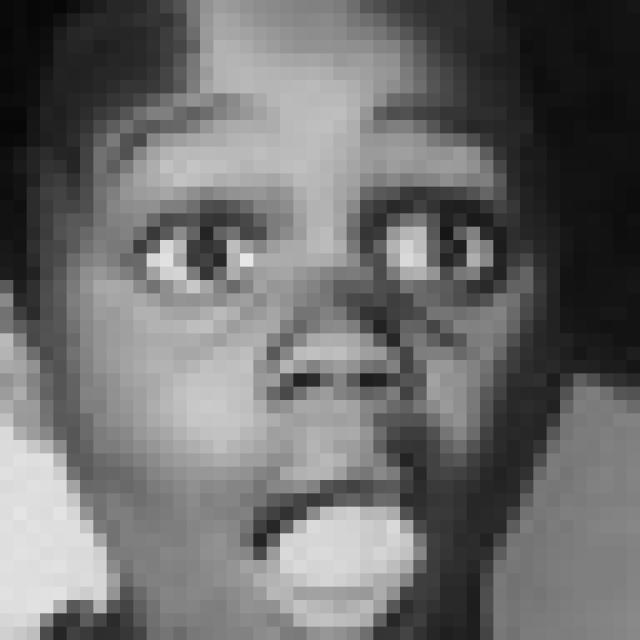surprise: (102, 75, 535, 640)
